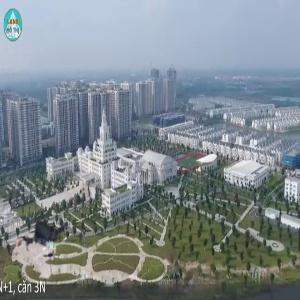drone: (13, 210, 75, 272)
